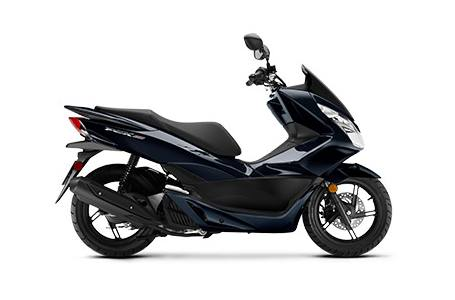motorcycle: (63, 65, 396, 259)
